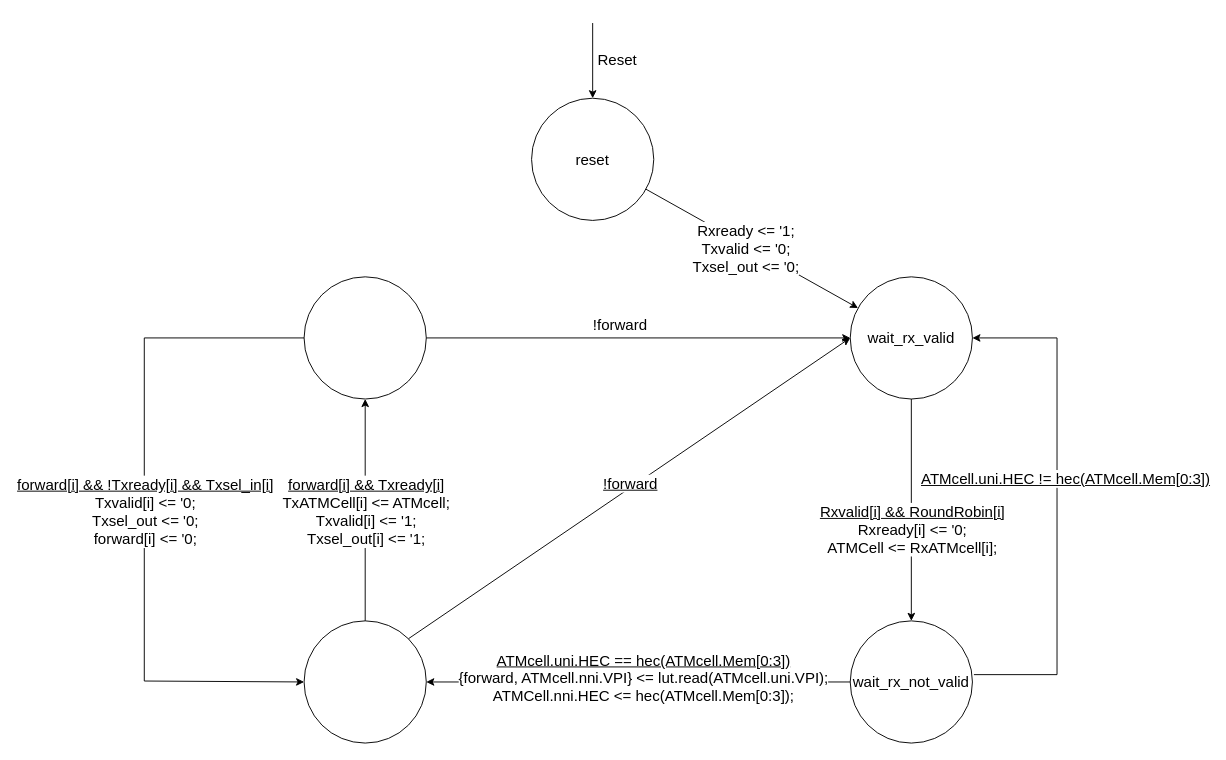
Some shapes in this 1226 by 760 pixel diagram are drawn without their labels. The shapes that lost their labels are listed below. From the top down, each one's box as (x1, y1, x2, y2) in pixels, then its label:
(303, 276, 426, 399): wait_tx_not_ready
(303, 620, 426, 743): wait_tx_ready
